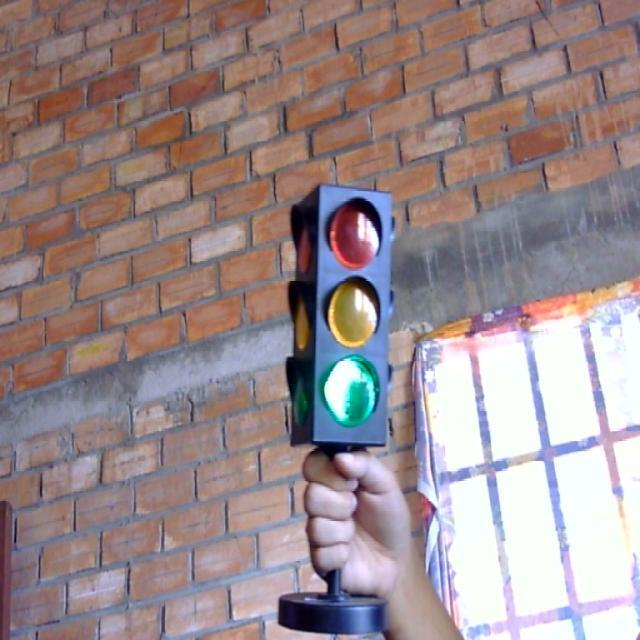green_light: (282, 185, 401, 452)
